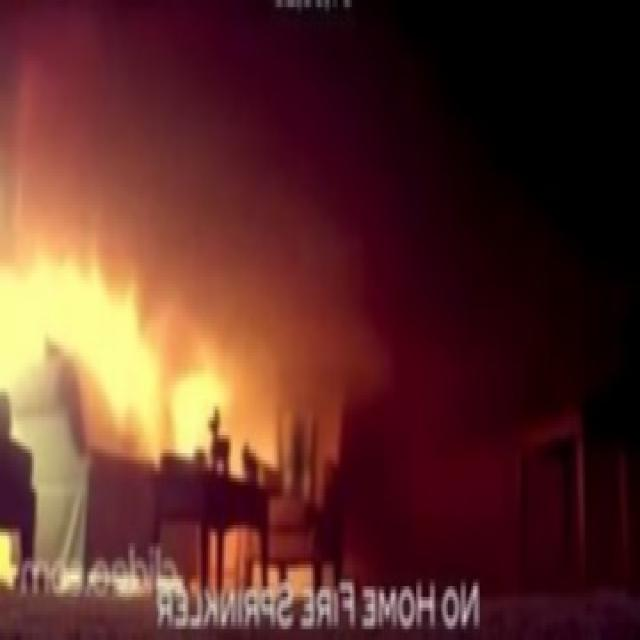fire: (0, 226, 242, 474)
